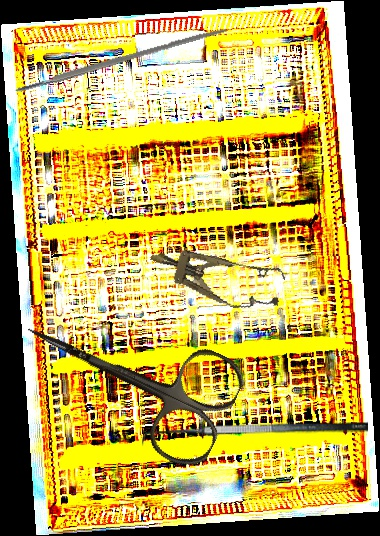Iris Scissors: (3, 273, 251, 476)
Scalpel Handle: (14, 24, 228, 95)
Spatula Surgical: (142, 420, 368, 451)
Speculum: (143, 231, 289, 320)
